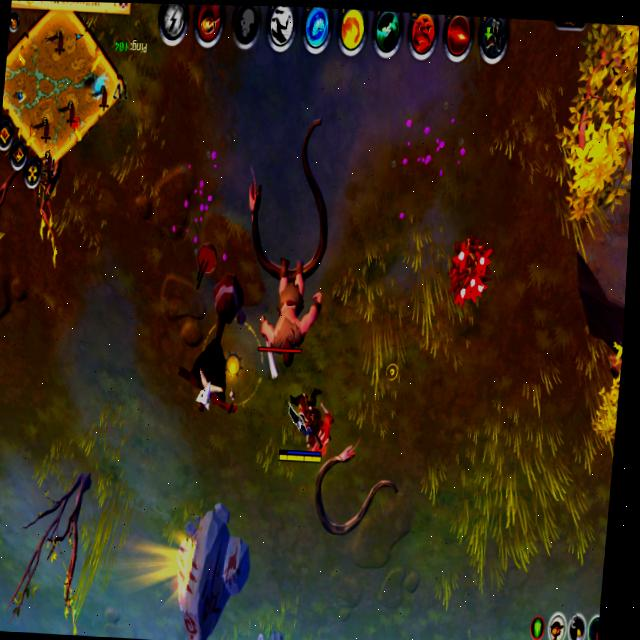hide: (443, 223, 497, 315), (244, 627, 275, 640)
ore: (254, 244, 331, 387)
red: (272, 377, 334, 466)
